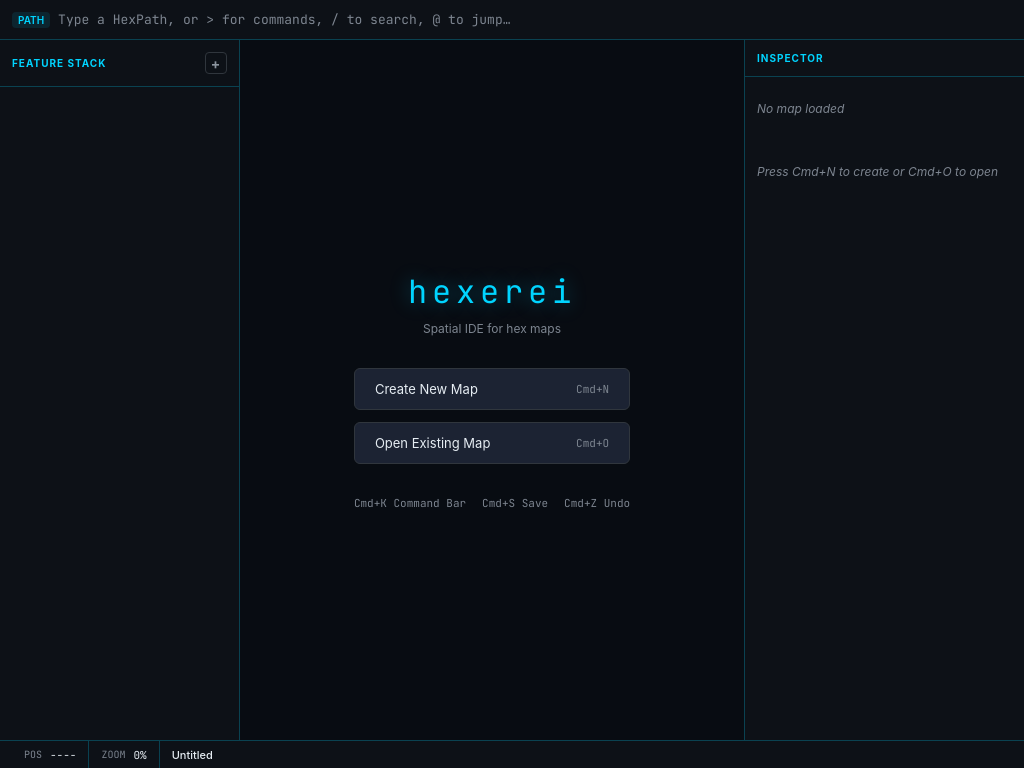
Test case: Cmd+S shortcut marks document as saved and clears MODIFIED indicator
Click the button "Create New Map Cmd+N".
click(426, 389)  # box [354,368,630,410]
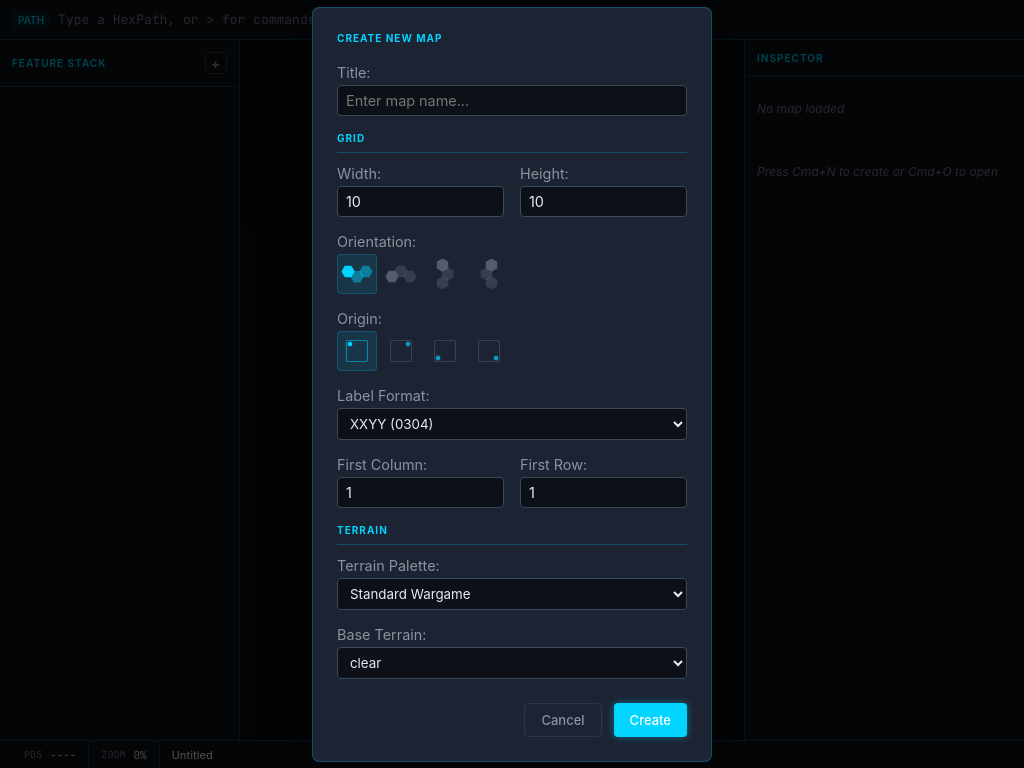
Type "Test Map" into the field labelled "Title:".
click(512, 100); type("Test Map")  # box [337,84,687,116]
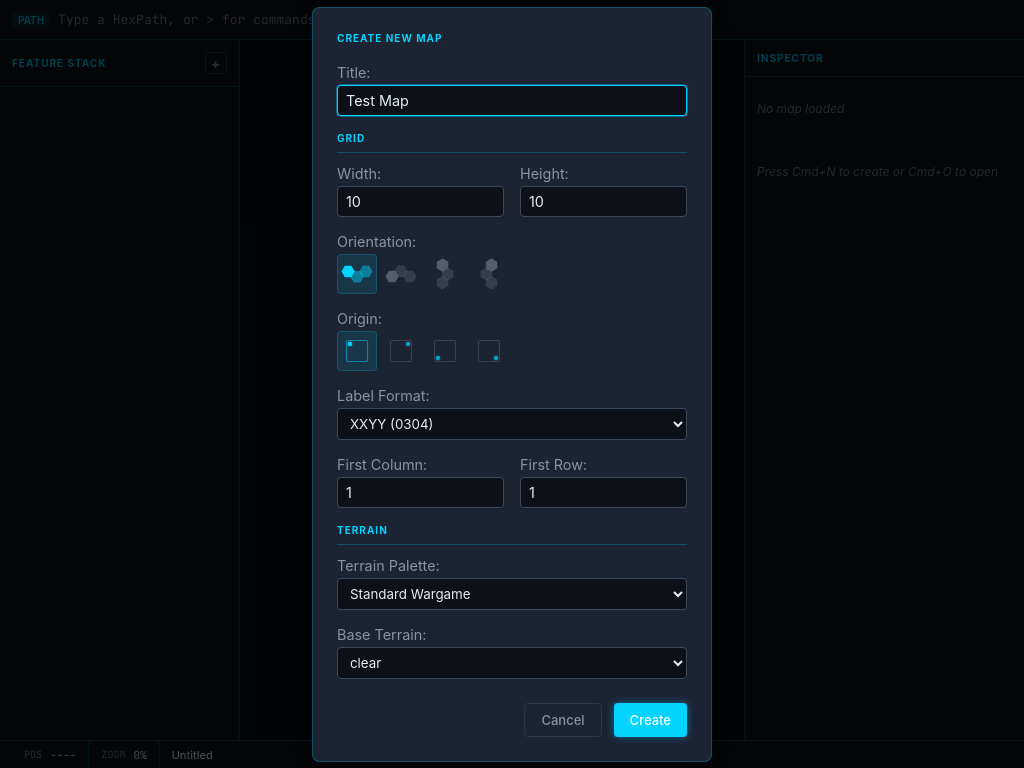
Click the button "Create".
click(650, 720)  # box [614,702,687,736]
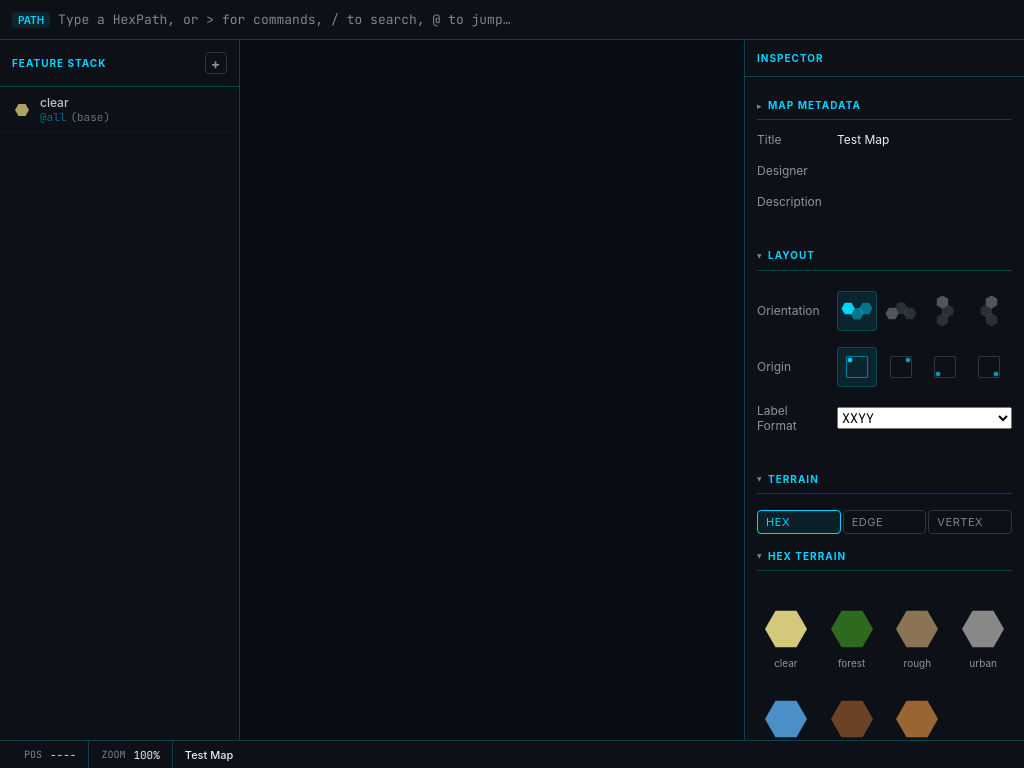
Check: the text "MODIFIED" is not shown
Check: the button titled "flat-down" is shown, box [837,290,877,330]
Click the button titled "flat-up".
click(901, 310)  # box [881,290,921,330]
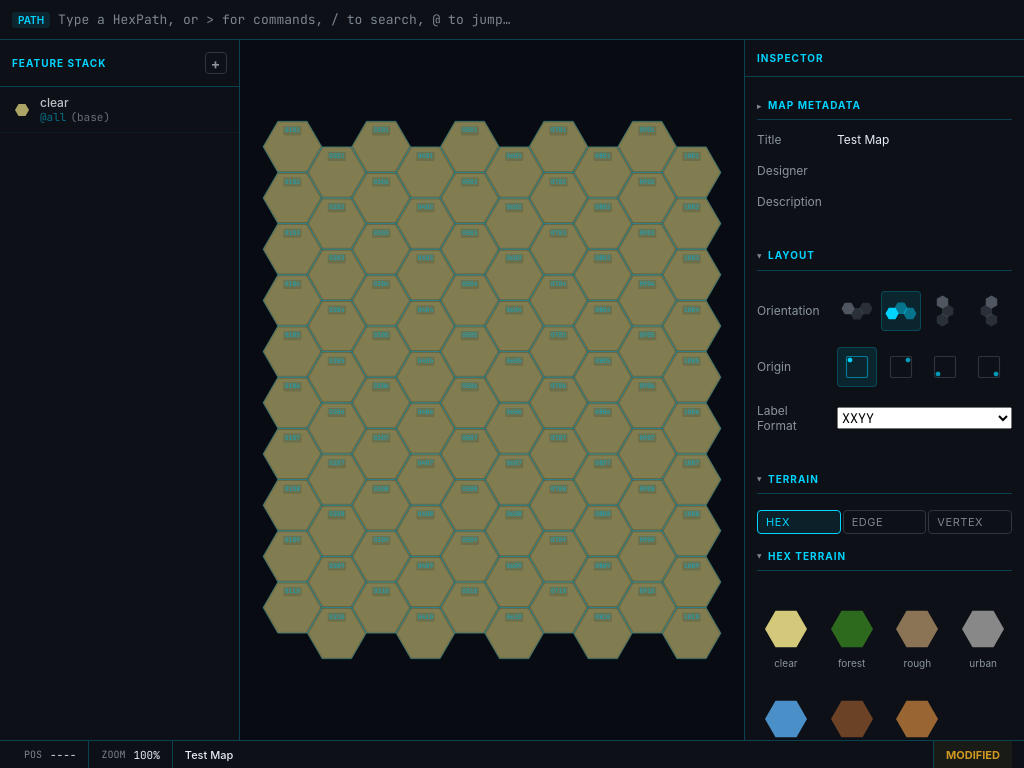
Check: the text "MODIFIED" is shown, box [934,741,1012,767]
Type keys "{Meta>}s{/Meta}"
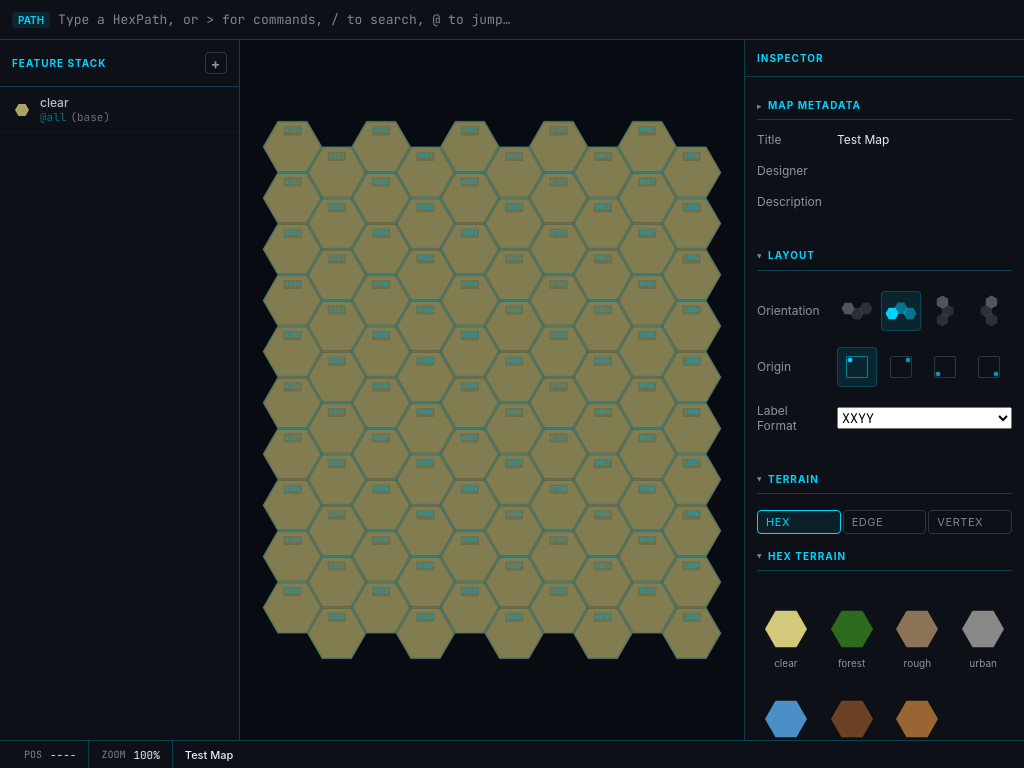
Check: the text "MODIFIED" is gone
